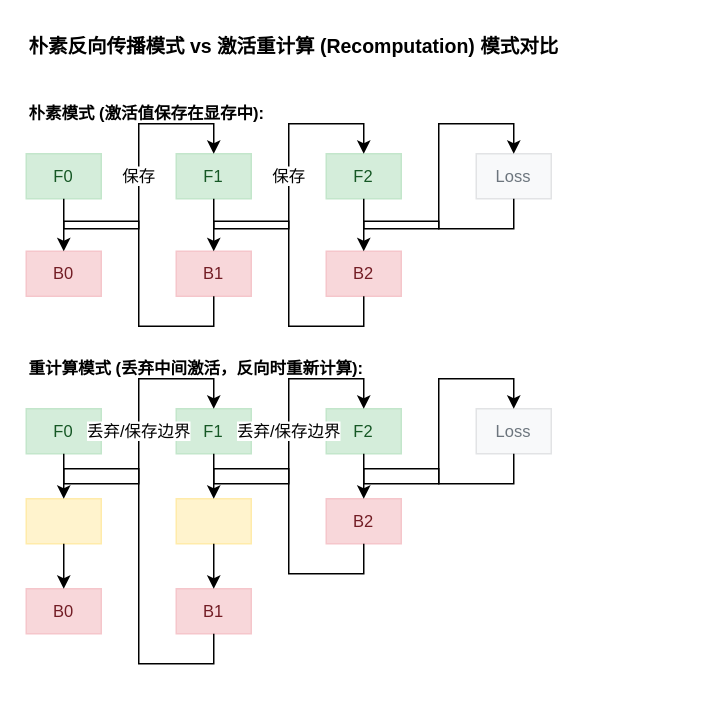
This 728x702 diagram has some shape labels left out. Here are the shapes that lost their labels. From the top down, the box of each, then its label:
(25, 497, 101, 544): 重跑 F0
(175, 497, 251, 544): 重跑 F1
